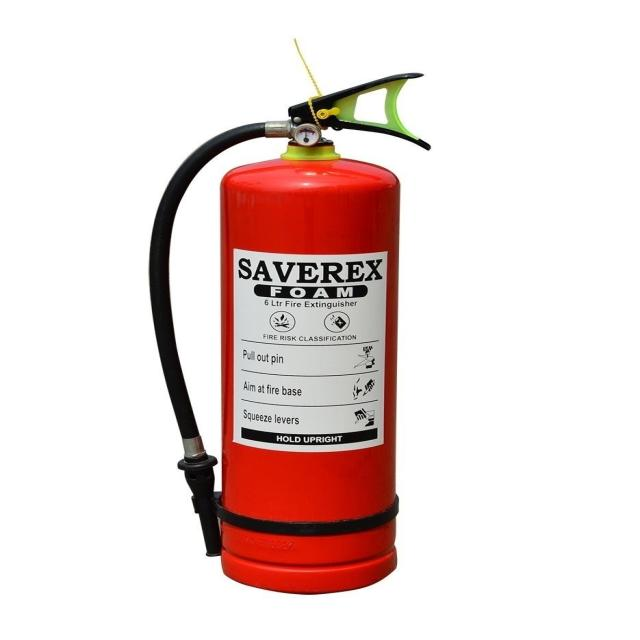fire_extinguisher: (141, 64, 436, 596)
